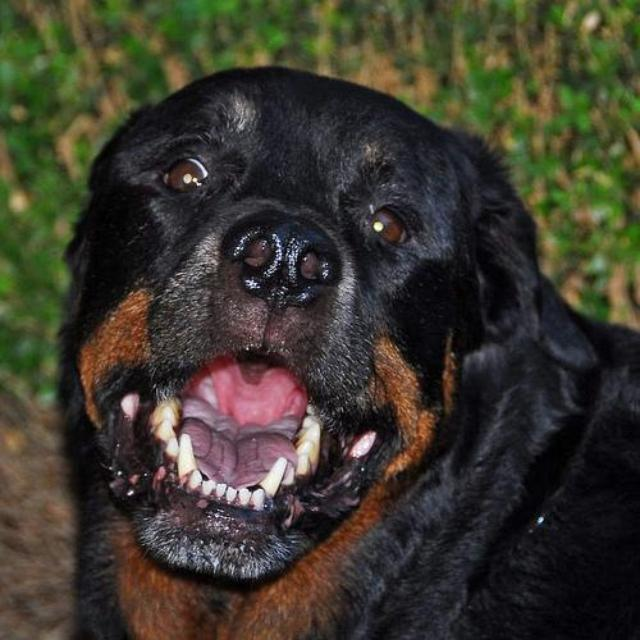rottweiler: (5, 64, 639, 640)
